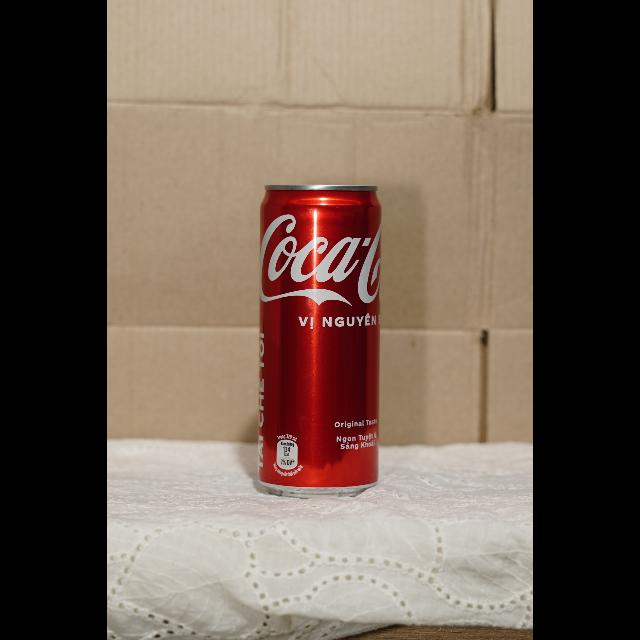coca_cola: (257, 184, 383, 498)
